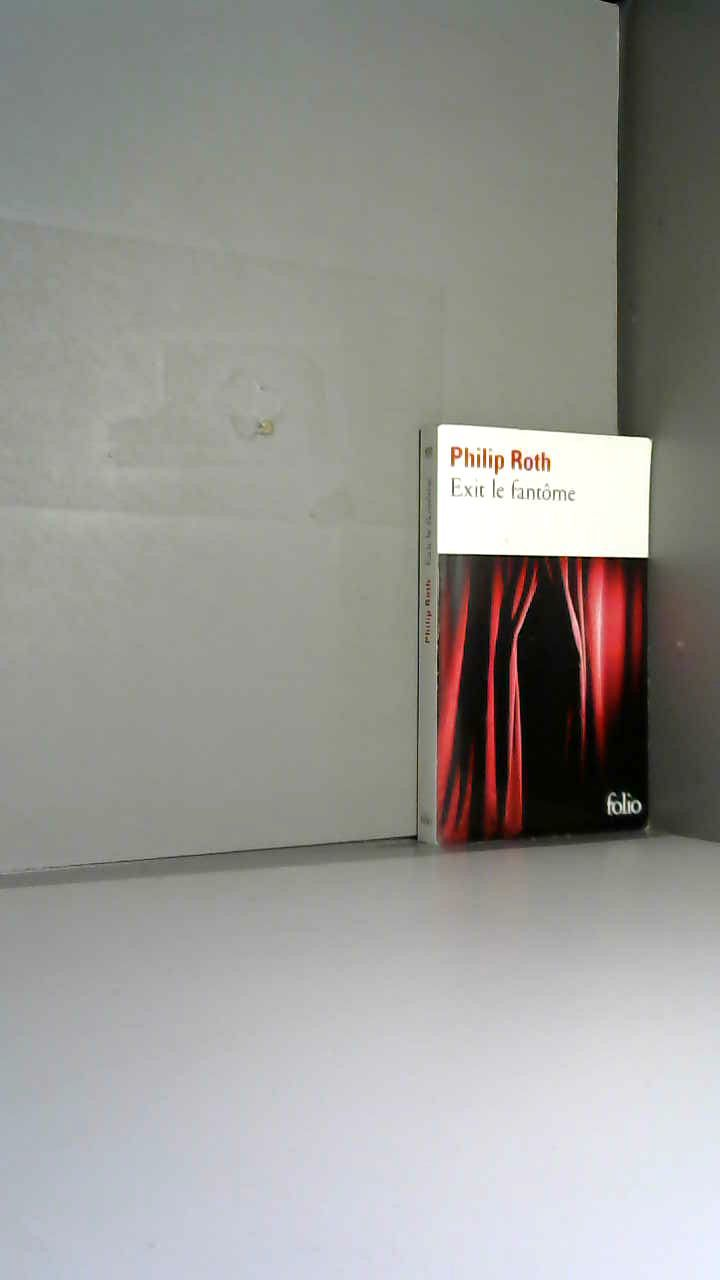book: (410, 400, 718, 905)
